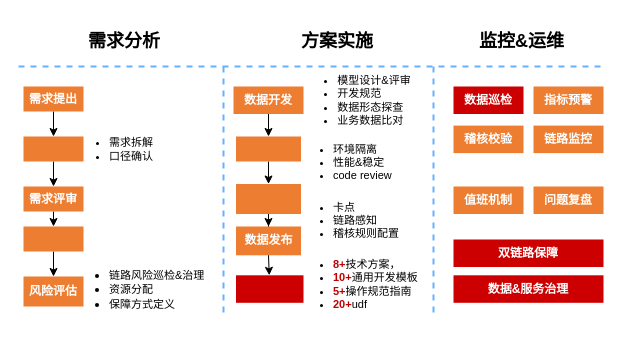
This 622x340 diagram has some shape labels left out. Each missing label, with the centre of its shape:
QA测试: point (268, 199)
口径确认: point (53, 148)
技术沉淀: point (269, 288)
测试评审: point (53, 238)
研发自测: point (268, 148)
